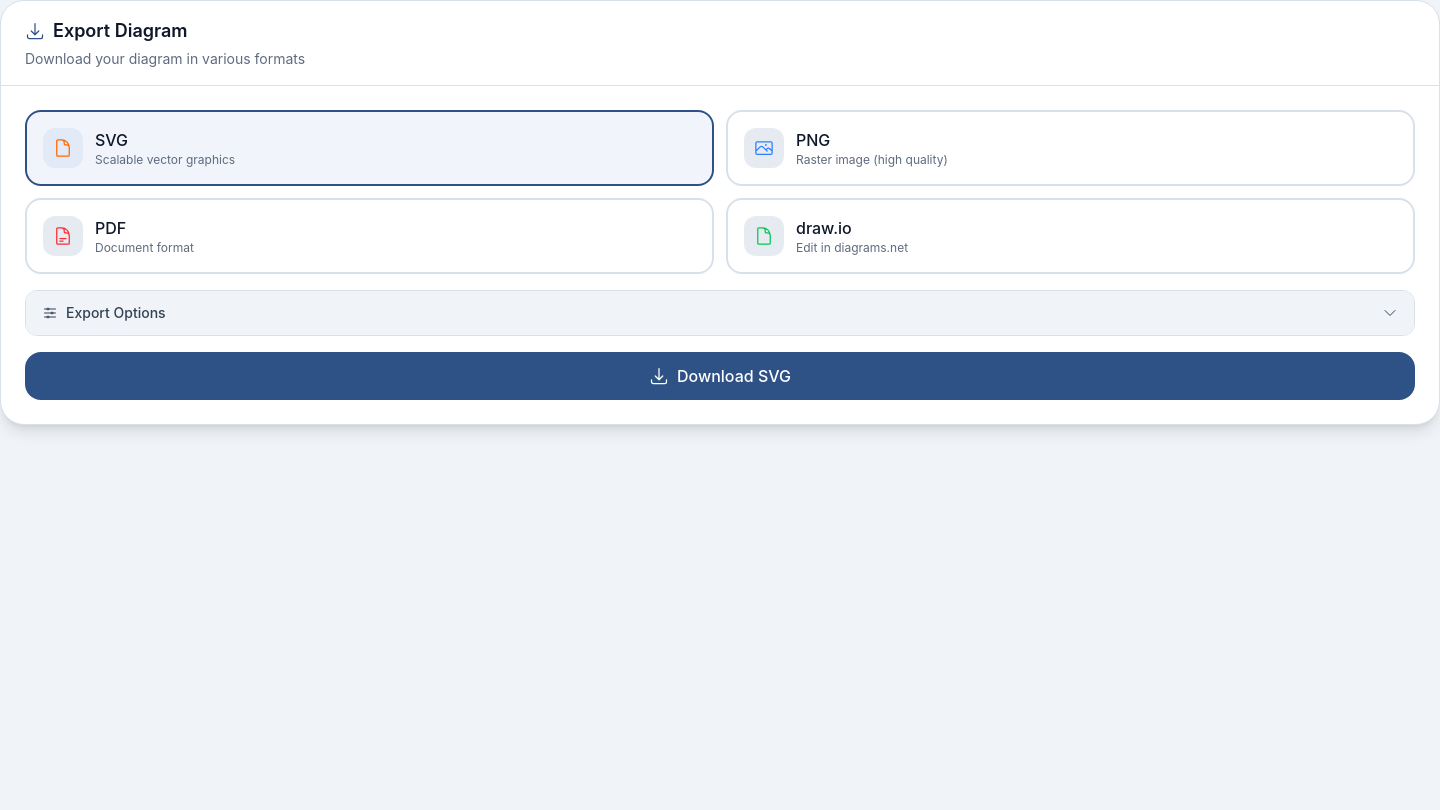
DiagramExportPanel › Export Options › shows background options for SVG format
The width and height of the screenshot is (1440, 810).
Click the button "Export Options" at coordinates (116, 312), box x1=26 y1=291 x2=1414 y2=335
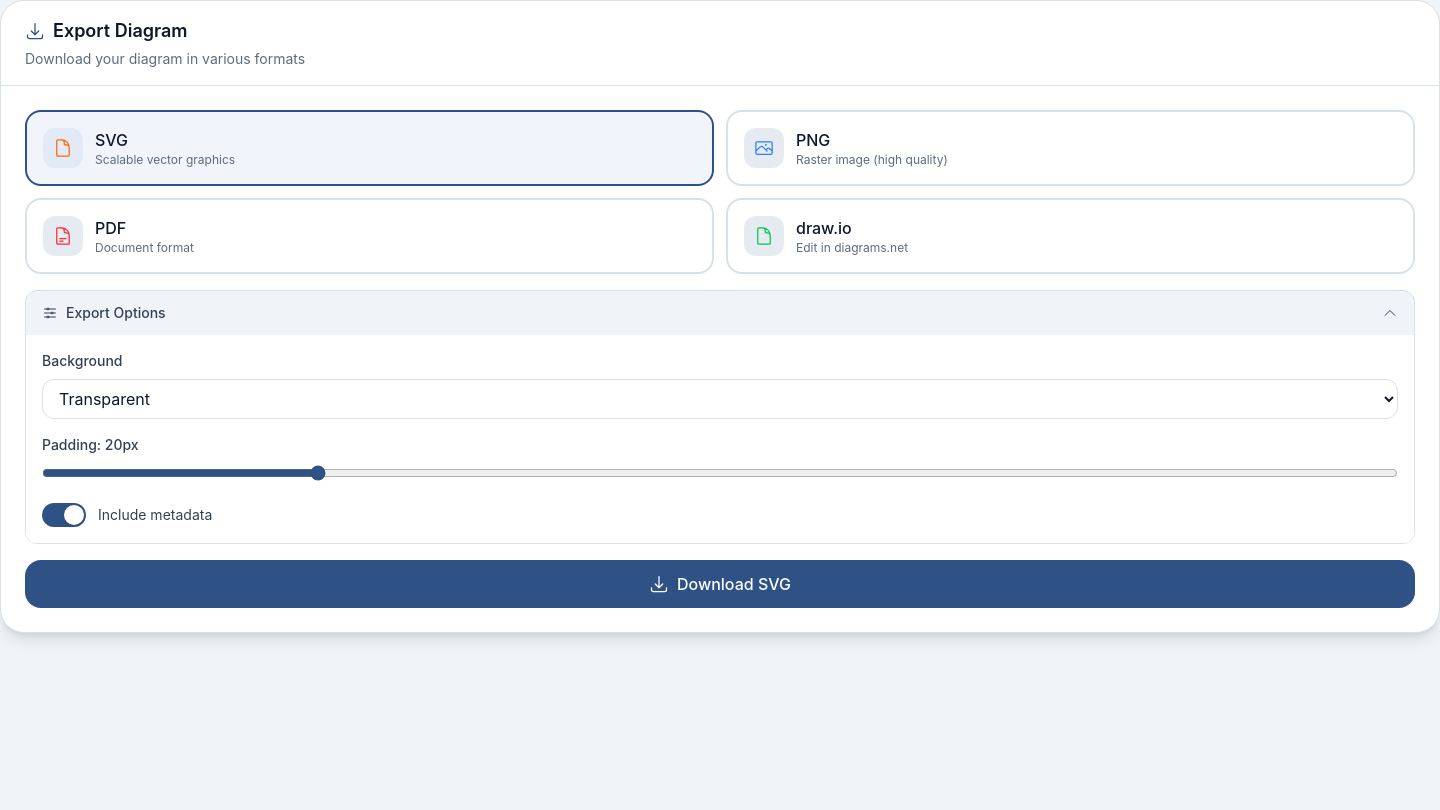
Result: the text "Background" is shown at x1=42 y1=352 x2=122 y2=369
